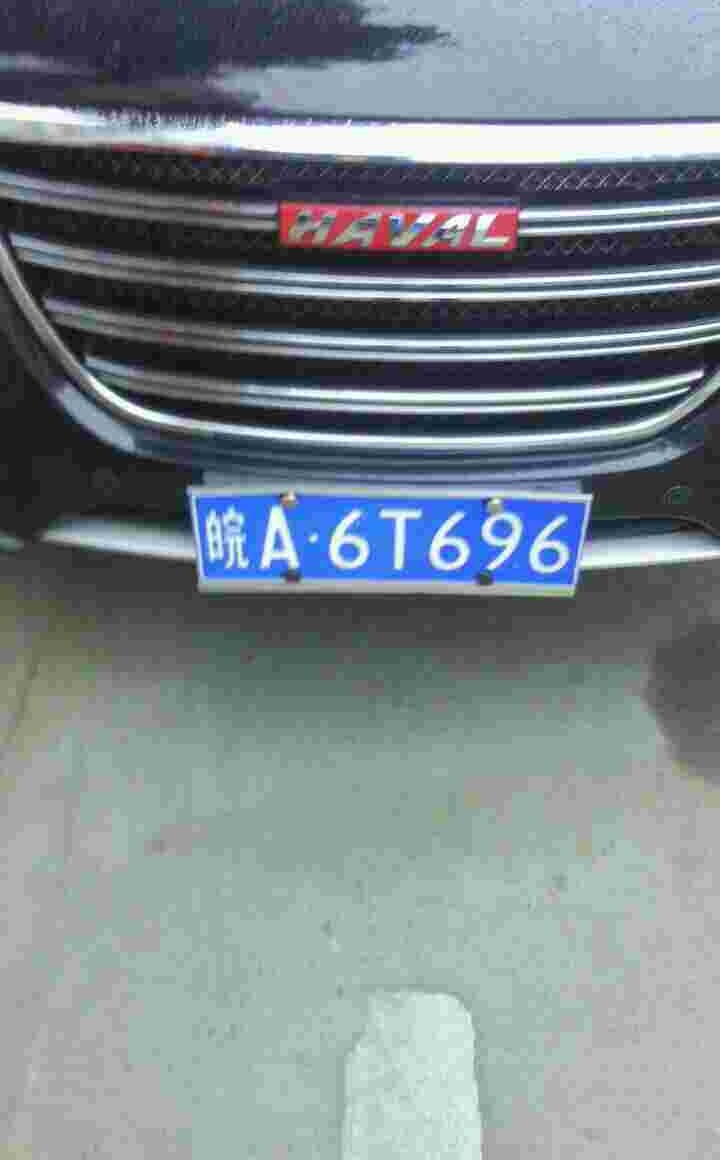license_plate: (211, 487, 589, 592)
